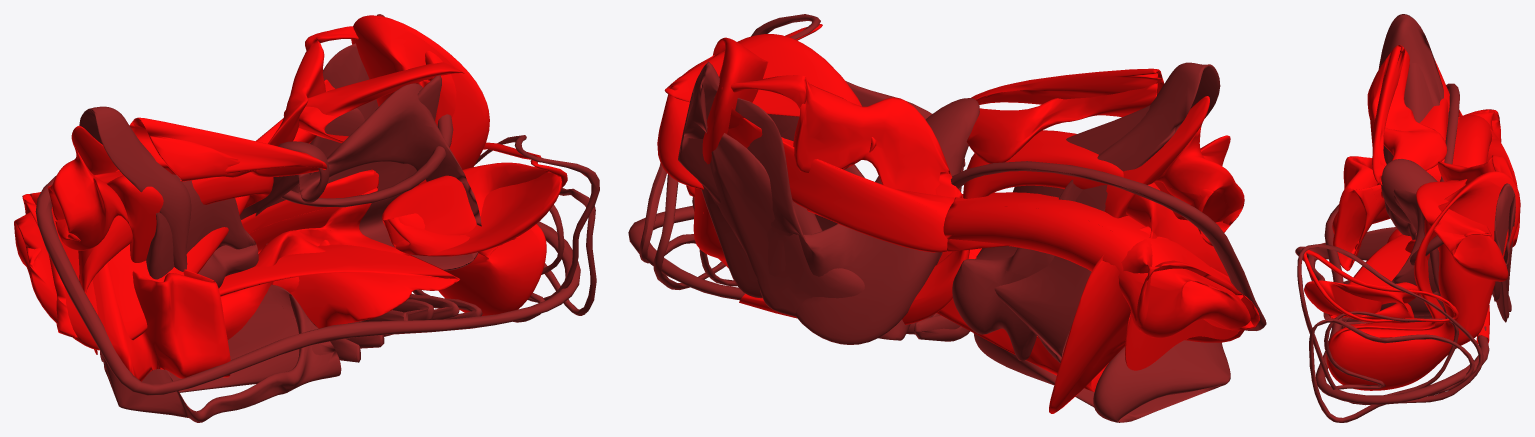
File: carwrecksofa-red-v56.glb
The picture shows the model from 3 angles, left to right: view 1: azimuth 30°, elevation 25°; view 2: azimuth 150°, elevation 25°; view 3: azimuth 270°, elevation 25°; orthographic projection. The views are drawn at different scales.
Parts seen in each view (by area): view 1: Merged Objects 1, Merged Objects 2; view 2: Merged Objects 1, Merged Objects 2; view 3: Merged Objects 1, Merged Objects 2.
Boxes of the visible parts, box(x1,y1,x2,y2) form: Merged Objects 1: box(14, 15, 567, 381); Merged Objects 2: box(35, 14, 599, 422); Merged Objects 1: box(657, 24, 1260, 413); Merged Objects 2: box(628, 14, 1266, 422); Merged Objects 1: box(1303, 45, 1520, 390); Merged Objects 2: box(1295, 14, 1515, 422).
Size of the model in its own units: 3 by 1.6 by 1.4.
